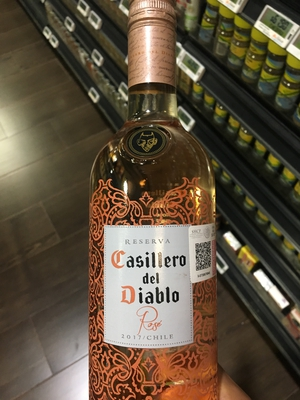casillero del diablo rose: (71, 16, 240, 398)
